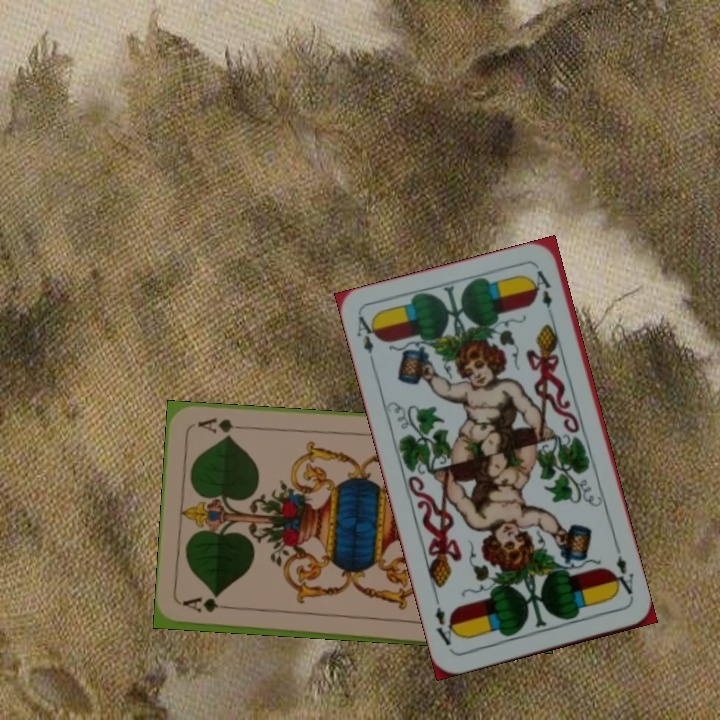EA: (353, 312, 382, 370), (607, 552, 637, 602)
GA: (179, 595, 238, 615)
